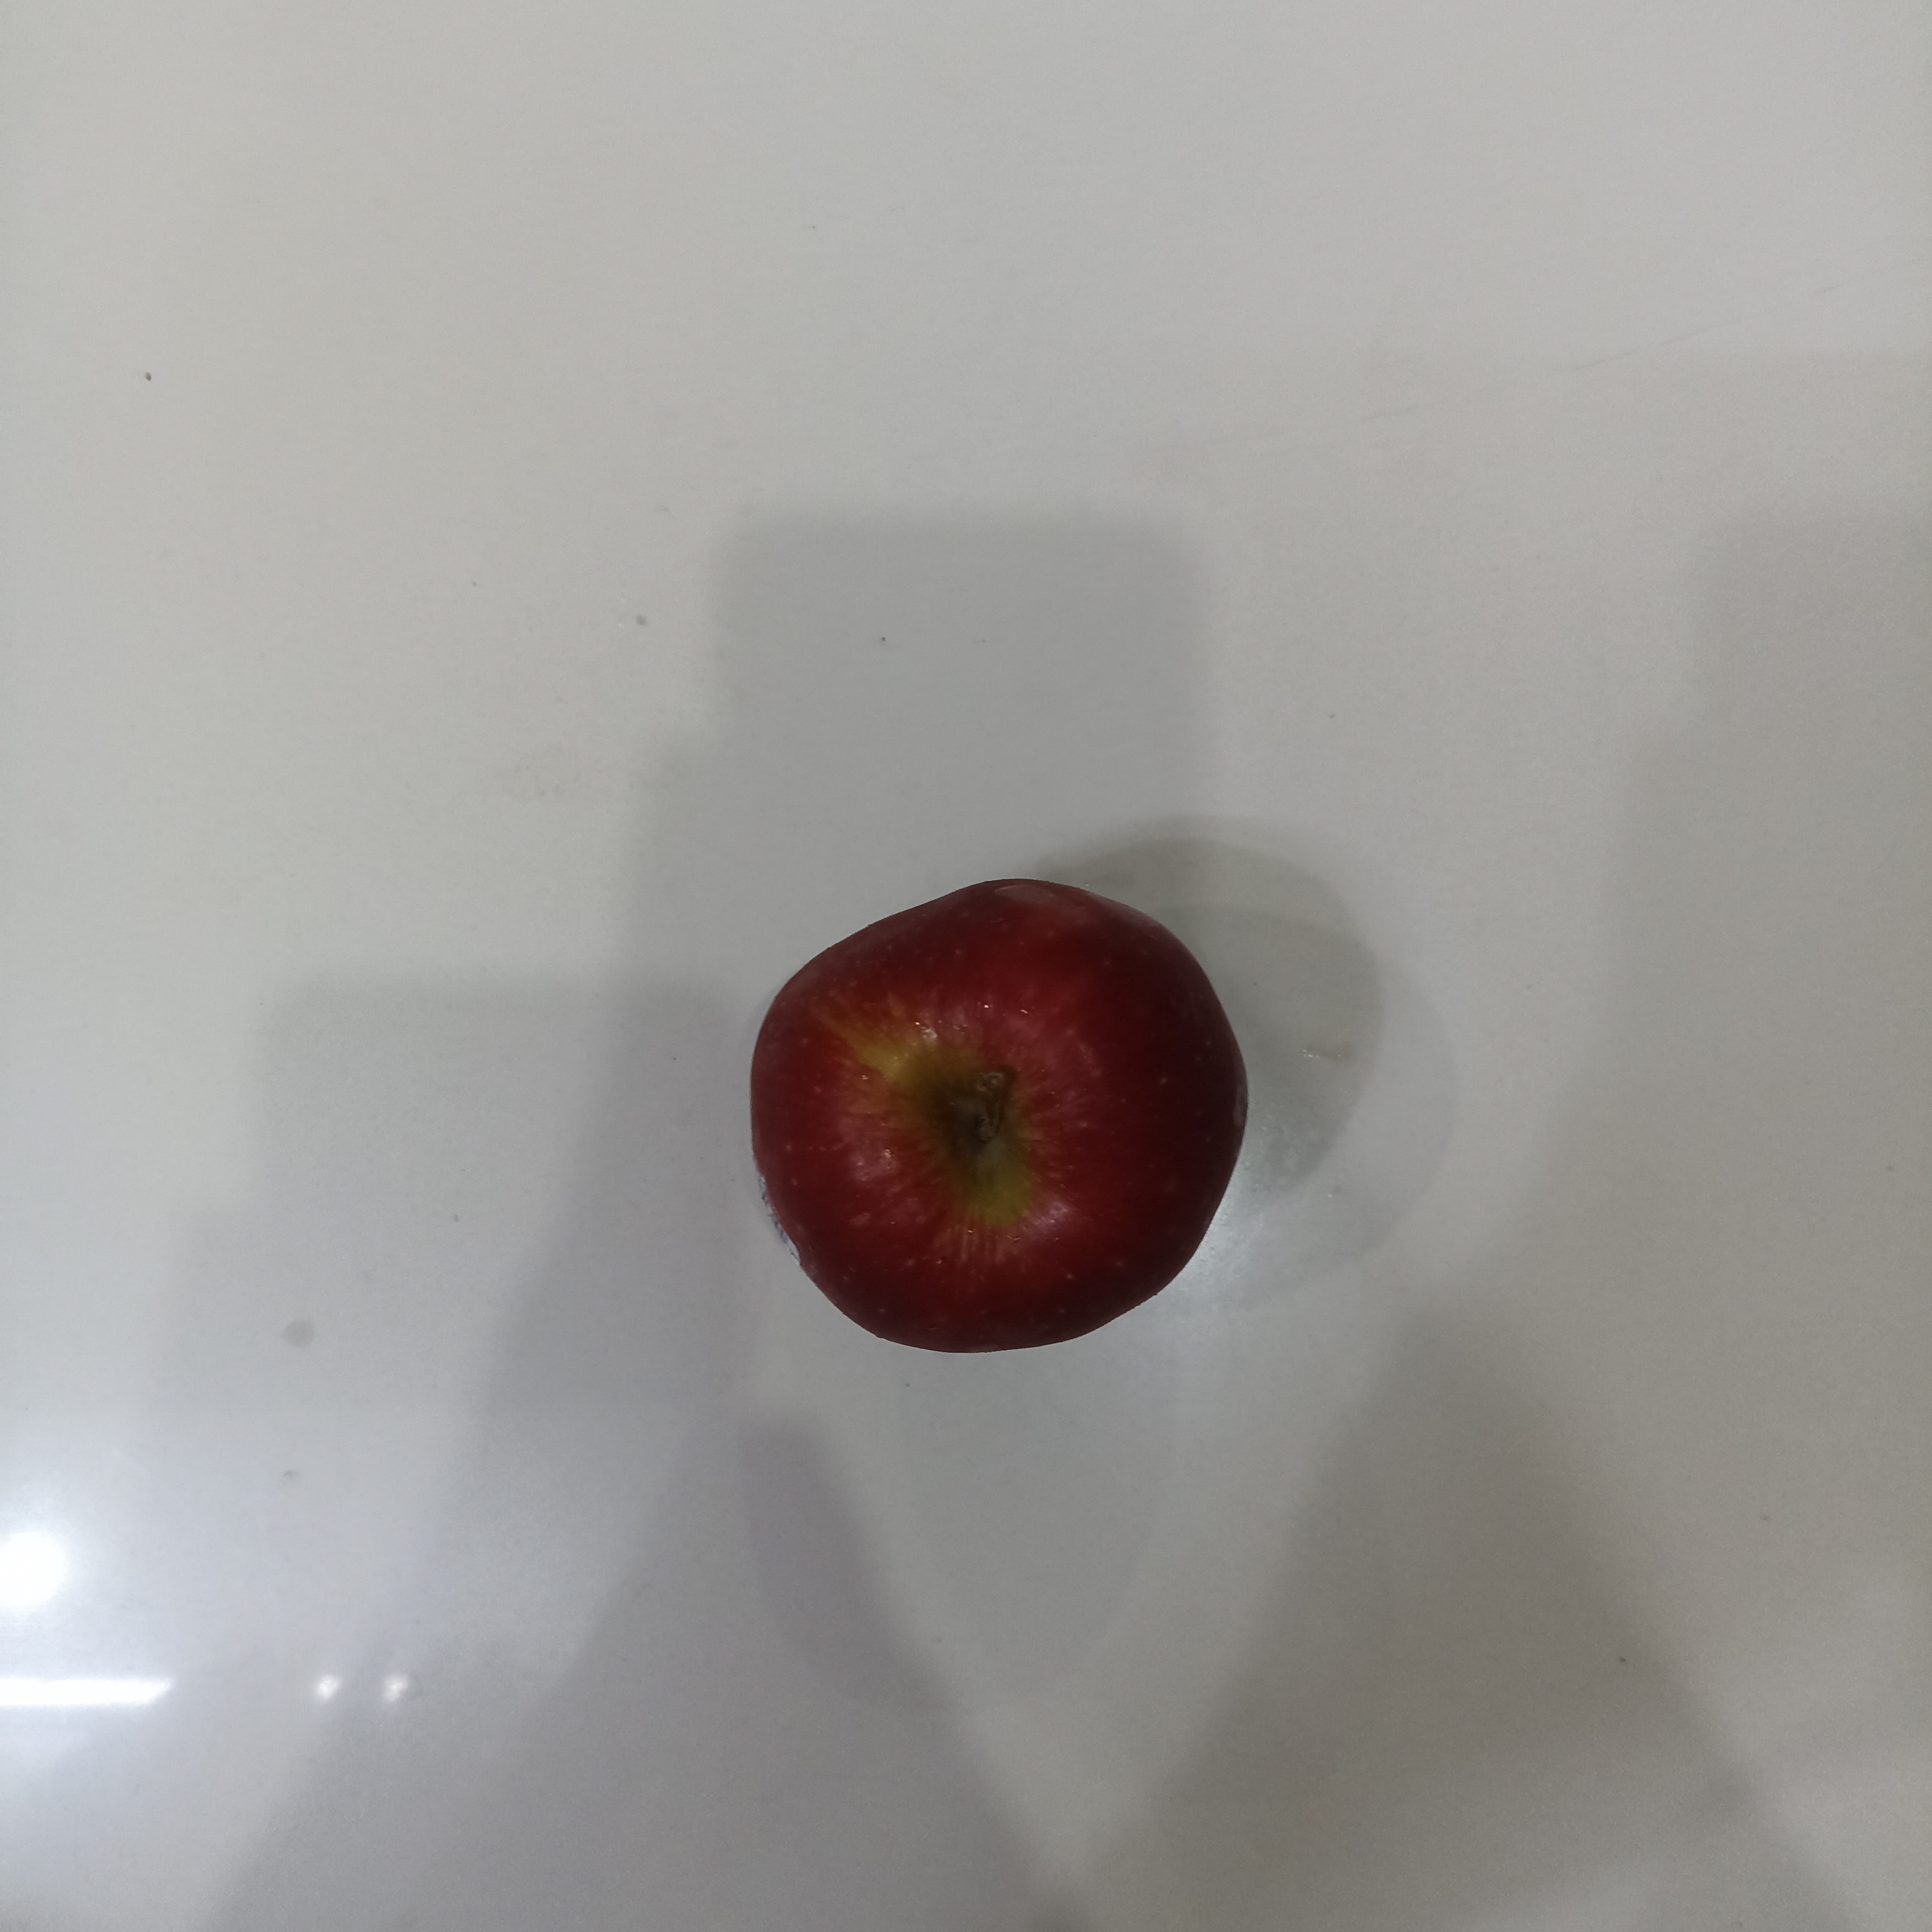Tao do: (750, 872, 1250, 1359)
